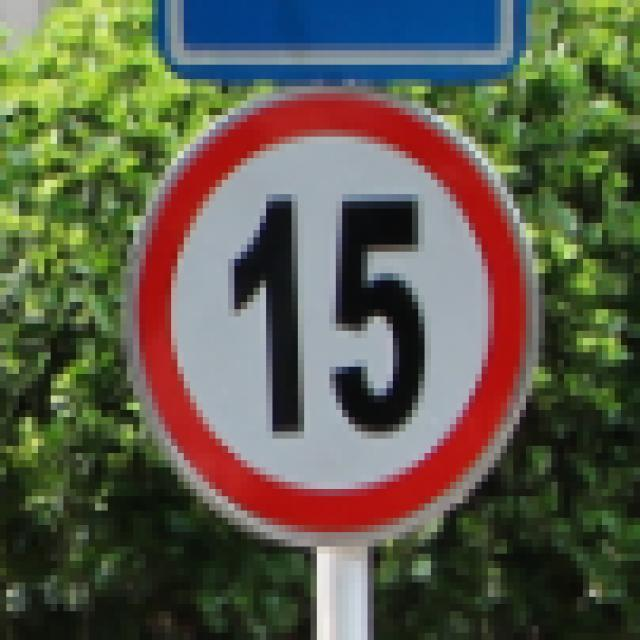Speed: (90, 90, 570, 552)
